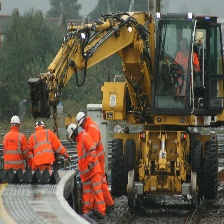helmet: (67, 122, 79, 141), (7, 115, 23, 128), (75, 110, 87, 124)
person: (65, 123, 105, 217), (30, 121, 63, 171), (4, 112, 28, 169)
vest: (28, 125, 58, 169), (73, 133, 98, 176), (4, 130, 29, 169)
